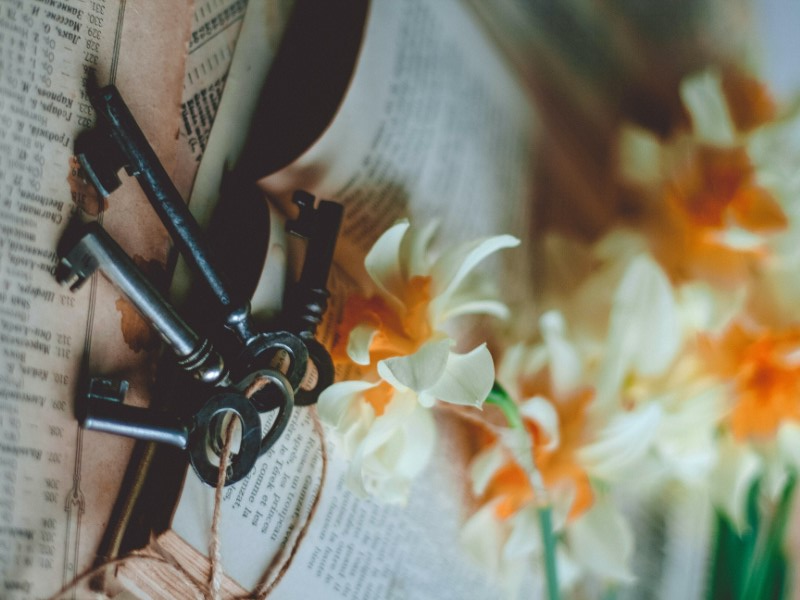key: (47, 72, 345, 491)
